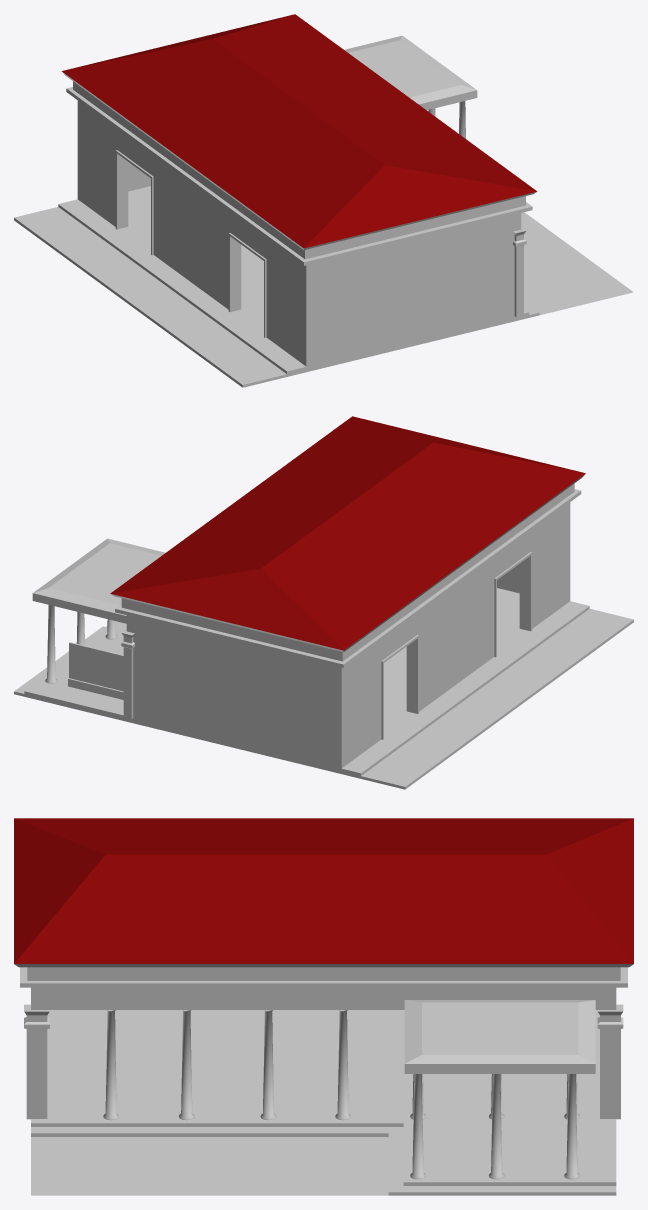
3 renders of one model, top to bottom at view 1: azimuth 30°, elevation 25°; view 2: azimuth 150°, elevation 25°; view 3: azimuth 270°, elevation 25°, orthographic. The views are drawn at different scales.
Parts seen in each view (by area): view 1: Plane_026; view 2: Plane_026; view 3: Plane_026.
Boxes of the visible parts, x1,y1,x2,y2 form: Plane_026: [14, 14, 633, 387]; Plane_026: [14, 416, 633, 789]; Plane_026: [14, 818, 633, 1195].
Size of the model in its own units: 15.26 by 5.94 by 16.37.
